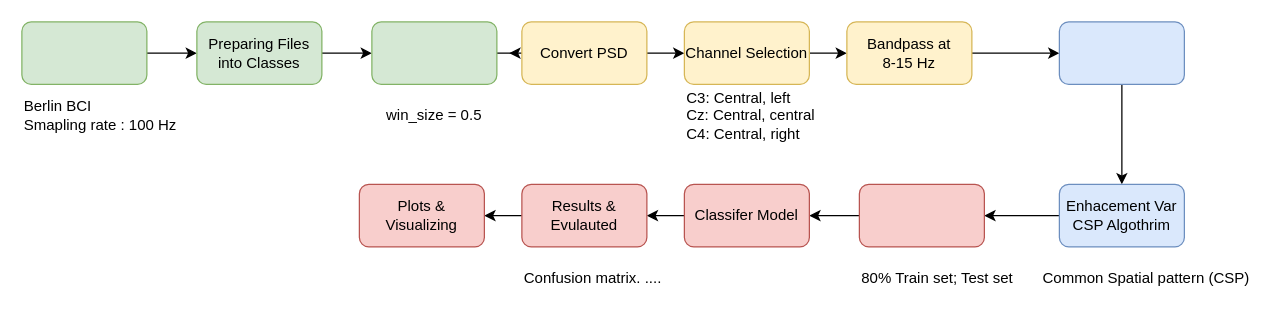
The diagram is 1281 pixels wide and 319 high, and some of its shapes have lost their labels. Here are the shapes that lost their labels. From the top down, the centre of each, then its label:
[84,52]: Loading Data
[434,52]: Segmentiation into Windows
[1121,52]: Features LogVar
[921,215]: Spliting Data
